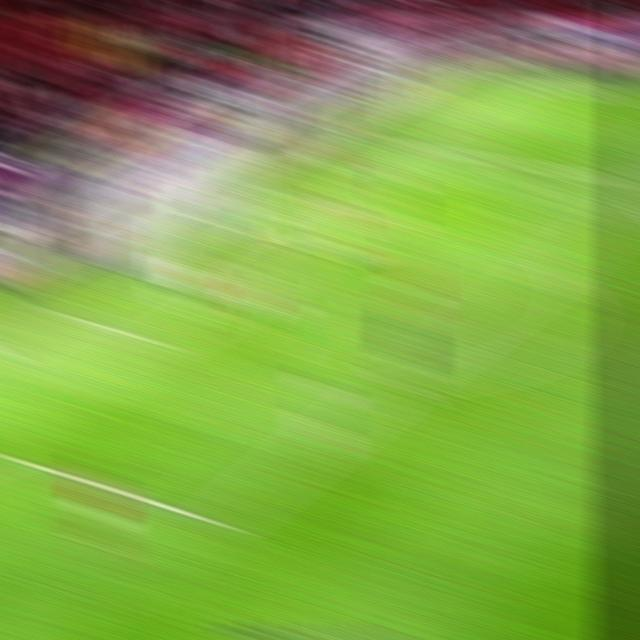bigarea_bottom_inner: (192, 500, 243, 541)
bigarea_top_outter: (376, 126, 416, 154)
bottom_arc_area_intersection: (378, 366, 421, 398)
corner: (482, 69, 527, 92)
smallarea_bottom_inner: (141, 321, 186, 360)
smallarea_bottom_outter: (46, 299, 89, 331)
smallarea_top_inner: (354, 201, 395, 227)
smallarea_top_outter: (271, 183, 313, 212)
top_arc_area_intersection: (534, 253, 573, 279)
